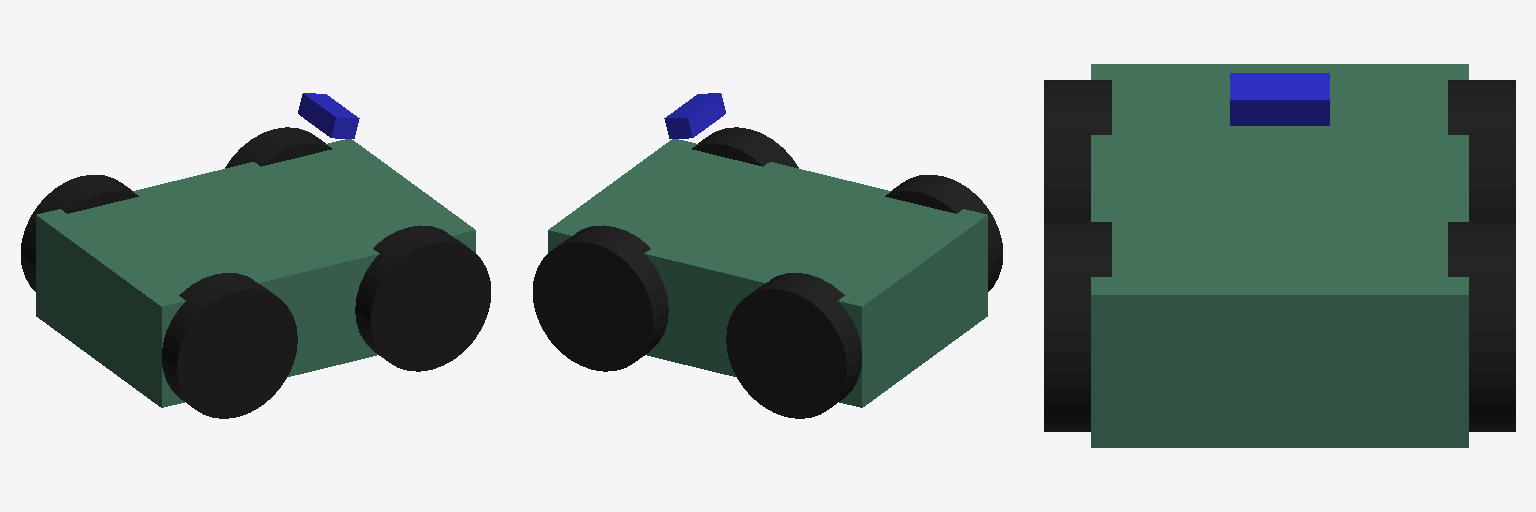
The robot description file, URDF, robot "ugv_4wd":
<?xml version="1.0" ?>
<robot name="ugv_4wd">

  <!-- Base Link (Chassis) -->
  <link name="base_link">
    <inertial>
      <mass value="25.0"/>
      <origin xyz="0 0 0.125" rpy="0 0 0"/>
      <inertia ixx="0.505" ixy="0.0" ixz="0.0" iyy="0.963" iyz="0.0" izz="1.302"/>
    </inertial>
    <visual>
      <origin xyz="0 0 0.125" rpy="0 0 0"/>
      <geometry>
        <box size="0.65 0.45 0.20"/>
      </geometry>
      <material name="chassis_mat">
        <color rgba="0.3 0.5 0.4 1.0"/>
      </material>
    </visual>
    <collision>
      <origin xyz="0 0 0.125" rpy="0 0 0"/>
      <geometry>
        <box size="0.65 0.45 0.20"/>
      </geometry>
    </collision>
  </link>

  <!-- Front Left Wheel -->
  <link name="wheel_fl_link">
    <inertial>
      <mass value="2.0"/>
      <origin xyz="0 0 0" rpy="0 0 0"/>
      <inertia ixx="0.0088" ixy="0" ixz="0" iyy="0.0088" iyz="0" izz="0.0156"/>
    </inertial>
    <visual>
      <origin xyz="0 0 0" rpy="0 0 0"/>
      <geometry>
        <cylinder radius="0.125" length="0.08"/>
      </geometry>
      <material name="wheel_mat">
        <color rgba="0.15 0.15 0.15 1.0"/>
      </material>
    </visual>
    <collision>
      <origin xyz="0 0 0" rpy="0 0 0"/>
      <geometry>
        <cylinder radius="0.125" length="0.08"/>
      </geometry>
    </collision>
  </link>
  <joint name="wheel_fl_joint" type="continuous">
    <parent link="base_link"/>
    <child link="wheel_fl_link"/>
    <origin xyz="0.20 0.24 0.125" rpy="-1.57079632679 0 0"/>
    <axis xyz="0 0 1"/>
  </joint>

  <!-- Front Right Wheel -->
  <link name="wheel_fr_link">
    <inertial>
      <mass value="2.0"/>
      <origin xyz="0 0 0" rpy="0 0 0"/>
      <inertia ixx="0.0088" ixy="0" ixz="0" iyy="0.0088" iyz="0" izz="0.0156"/>
    </inertial>
    <visual>
      <origin xyz="0 0 0" rpy="0 0 0"/>
      <geometry>
        <cylinder radius="0.125" length="0.08"/>
      </geometry>
      <material name="wheel_mat"/>
    </visual>
    <collision>
      <origin xyz="0 0 0" rpy="0 0 0"/>
      <geometry>
        <cylinder radius="0.125" length="0.08"/>
      </geometry>
    </collision>
  </link>
  <joint name="wheel_fr_joint" type="continuous">
    <parent link="base_link"/>
    <child link="wheel_fr_link"/>
    <origin xyz="0.20 -0.24 0.125" rpy="-1.57079632679 0 0"/>
    <axis xyz="0 0 1"/>
  </joint>

  <!-- Rear Left Wheel -->
  <link name="wheel_rl_link">
    <inertial>
      <mass value="2.0"/>
      <origin xyz="0 0 0" rpy="0 0 0"/>
      <inertia ixx="0.0088" ixy="0" ixz="0" iyy="0.0088" iyz="0" izz="0.0156"/>
    </inertial>
    <visual>
      <origin xyz="0 0 0" rpy="0 0 0"/>
      <geometry>
        <cylinder radius="0.125" length="0.08"/>
      </geometry>
      <material name="wheel_mat"/>
    </visual>
    <collision>
      <origin xyz="0 0 0" rpy="0 0 0"/>
      <geometry>
        <cylinder radius="0.125" length="0.08"/>
      </geometry>
    </collision>
  </link>
  <joint name="wheel_rl_joint" type="continuous">
    <parent link="base_link"/>
    <child link="wheel_rl_link"/>
    <origin xyz="-0.20 0.24 0.125" rpy="-1.57079632679 0 0"/>
    <axis xyz="0 0 1"/>
  </joint>

  <!-- Rear Right Wheel -->
  <link name="wheel_rr_link">
    <inertial>
      <mass value="2.0"/>
      <origin xyz="0 0 0" rpy="0 0 0"/>
      <inertia ixx="0.0088" ixy="0" ixz="0" iyy="0.0088" iyz="0" izz="0.0156"/>
    </inertial>
    <visual>
      <origin xyz="0 0 0" rpy="0 0 0"/>
      <geometry>
        <cylinder radius="0.125" length="0.08"/>
      </geometry>
      <material name="wheel_mat"/>
    </visual>
    <collision>
      <origin xyz="0 0 0" rpy="0 0 0"/>
      <geometry>
        <cylinder radius="0.125" length="0.08"/>
      </geometry>
    </collision>
  </link>
  <joint name="wheel_rr_joint" type="continuous">
    <parent link="base_link"/>
    <child link="wheel_rr_link"/>
    <origin xyz="-0.20 -0.24 0.125" rpy="-1.57079632679 0 0"/>
    <axis xyz="0 0 1"/>
  </joint>

  <!-- Camera Link & Mount -->
  <link name="camera_link">
    <inertial>
      <mass value="0.25"/>
      <origin xyz="0 0 0" rpy="0 0 0"/>
      <inertia ixx="0.0001" ixy="0" ixz="0" iyy="0.0001" iyz="0" izz="0.0001"/>
    </inertial>
    <visual>
      <geometry>
        <box size="0.05 0.12 0.04"/>
      </geometry>
      <material name="camera_mat">
        <color rgba="0.2 0.2 0.8 1.0"/>
      </material>
    </visual>
  </link>
  <joint name="camera_joint" type="fixed">
    <parent link="base_link"/>
    <child link="camera_link"/>
    <origin xyz="0.15 0.0 0.40" rpy="0 0.26179938779 0"/> <!-- pitch = 15.0 deg -->
  </joint>

  <!-- Camera Optical Frame (REP-103) -->
  <link name="camera_optical"/>
  <joint name="camera_optical_joint" type="fixed">
    <parent link="camera_link"/>
    <child link="camera_optical"/>
    <origin xyz="0 0 0" rpy="-1.57079632679 0 -1.57079632679"/>
  </joint>

  <!-- IMU Link -->
  <link name="imu_link">
    <inertial>
      <mass value="0.05"/>
      <origin xyz="0 0 0" rpy="0 0 0"/>
      <inertia ixx="1e-5" ixy="0" ixz="0" iyy="1e-5" iyz="0" izz="1e-5"/>
    </inertial>
  </link>
  <joint name="imu_joint" type="fixed">
    <parent link="base_link"/>
    <child link="imu_link"/>
    <origin xyz="0.0 0.0 0.15" rpy="0 0 0"/>
  </joint>

</robot>

--- Render facts (derived) ---
3 views of the same robot in one strip: view 1: azimuth 30°, elevation 25°; view 2: azimuth 150°, elevation 25°; view 3: azimuth 270°, elevation 25° (orthographic).
Model ugv_4wd with 8 links and 7 joints (4 continuous, 3 fixed), rooted at base_link, posed every joint at zero.
Links seen in each view (by area): view 1: base_link, wheel_rr_link, wheel_fr_link, wheel_rl_link, wheel_fl_link, camera_link; view 2: base_link, wheel_rl_link, wheel_fl_link, wheel_rr_link, wheel_fr_link, camera_link; view 3: base_link, wheel_fl_link, wheel_fr_link, wheel_rl_link, wheel_rr_link, camera_link.
Link boxes in pixels (x1,y1,x2,y2): base_link: [36, 139, 475, 407]; wheel_rr_link: [162, 273, 297, 418]; wheel_fr_link: [355, 225, 490, 371]; wheel_rl_link: [21, 175, 138, 291]; wheel_fl_link: [225, 127, 331, 168]; camera_link: [298, 93, 359, 138]; base_link: [548, 139, 987, 407]; wheel_rl_link: [726, 273, 861, 418]; wheel_fl_link: [533, 225, 668, 371]; wheel_rr_link: [885, 175, 1002, 291]; wheel_fr_link: [692, 127, 798, 168]; camera_link: [664, 93, 725, 138]; base_link: [1091, 64, 1468, 447]; wheel_fl_link: [1448, 222, 1515, 431]; wheel_fr_link: [1044, 222, 1111, 431]; wheel_rl_link: [1448, 80, 1515, 221]; wheel_rr_link: [1044, 80, 1111, 221]; camera_link: [1230, 73, 1329, 125].
Size in the robot's own frame: 0.65 by 0.56 by 0.4258 metres.
Geometry: primitives only (box / cylinder / sphere), no mesh files.
